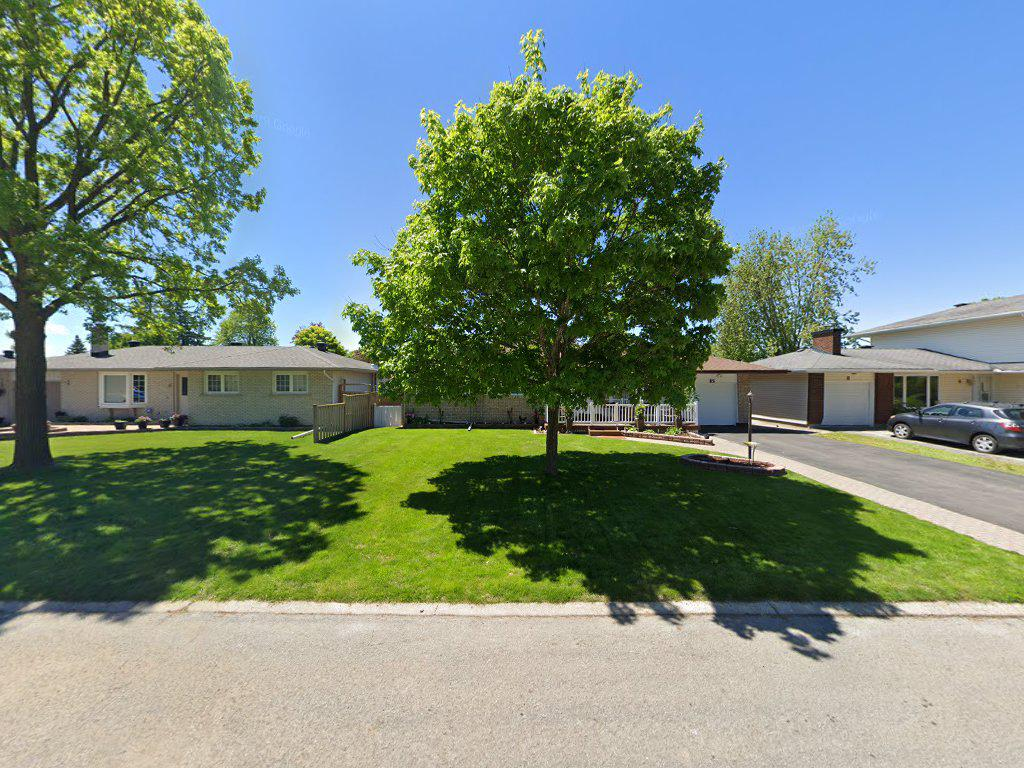trunk: (8, 252, 54, 492), (543, 395, 565, 471)
